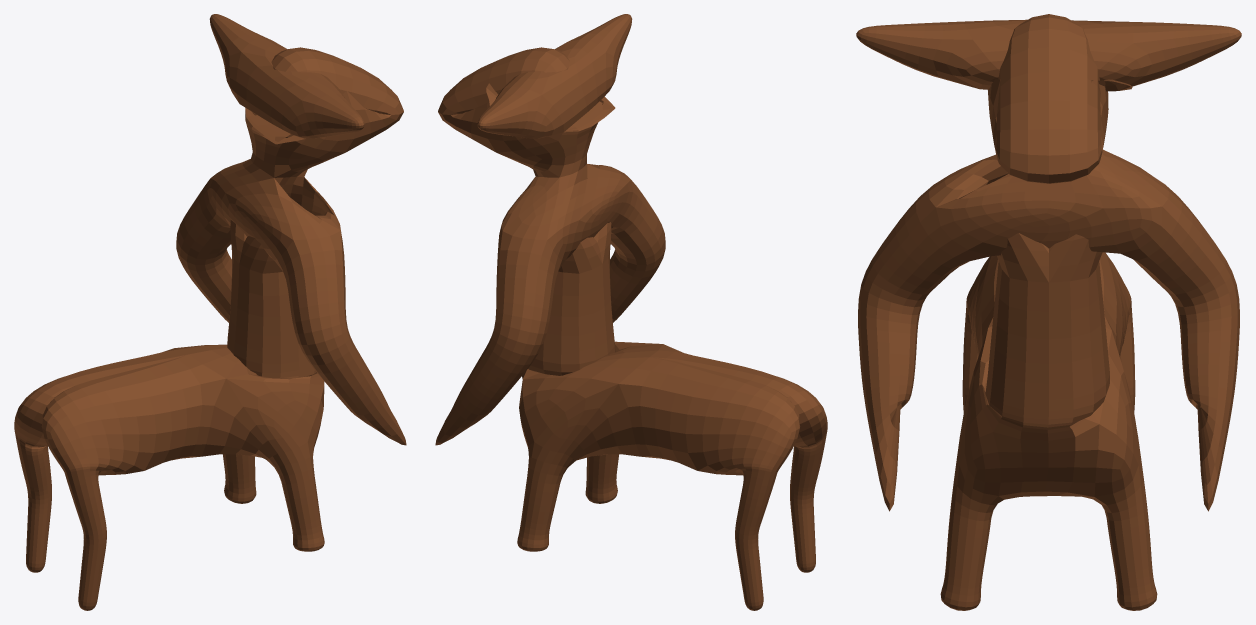
Rendered from monster.fbx.
The picture shows the model from 3 angles, left to right: view 1: azimuth 30°, elevation 25°; view 2: azimuth 150°, elevation 25°; view 3: azimuth 270°, elevation 25°; orthographic projection. The views are drawn at different scales.
Parts seen in each view (by area): view 1: Plane; view 2: Plane; view 3: Plane.
Part boxes in pixels (x1=…): Plane: x1=14, y1=14, x2=406, y2=610; Plane: x1=435, y1=14, x2=827, y2=610; Plane: x1=856, y1=14, x2=1241, y2=610.
Size of the model in its own units: 525 by 665 by 375.
